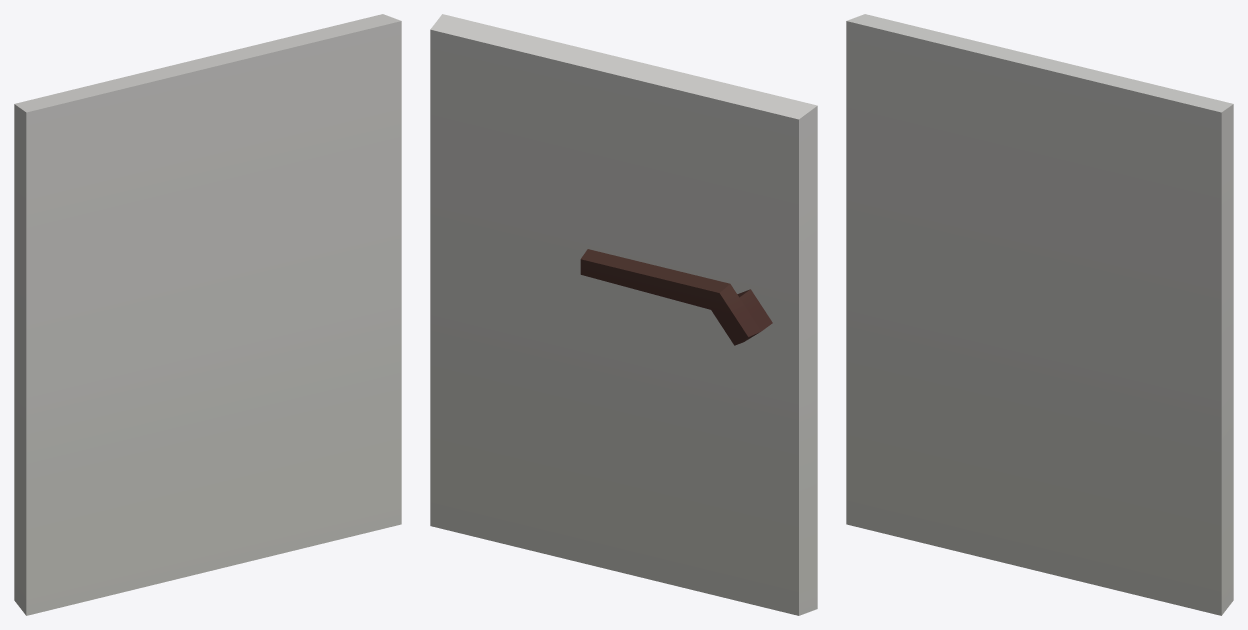
Rendered from Sterilizer_01_Door.fbx.
3 renders of one model, left to right at view 1: azimuth 30°, elevation 25°; view 2: azimuth 150°, elevation 25°; view 3: azimuth 330°, elevation 25°, orthographic.
Visible parts, largest first — view 1: Color; view 2: Color; view 3: Color.
Part boxes in pixels (box(x1,y1,x2,y2)): Color: box(14, 14, 401, 615); Color: box(430, 14, 817, 615); Color: box(846, 14, 1233, 615).
Bounding box in the file's own units: 0.2809 × 0.36 × 0.0473.
1 material, 1 textured.
